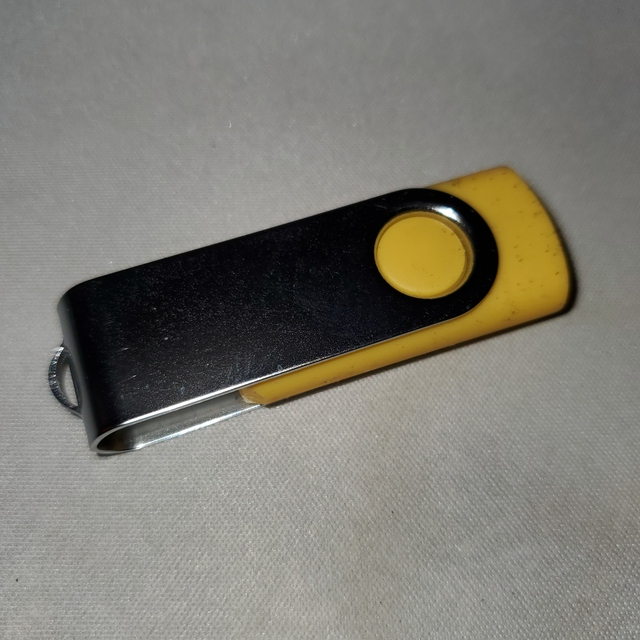usb_drive: (44, 165, 581, 462)
